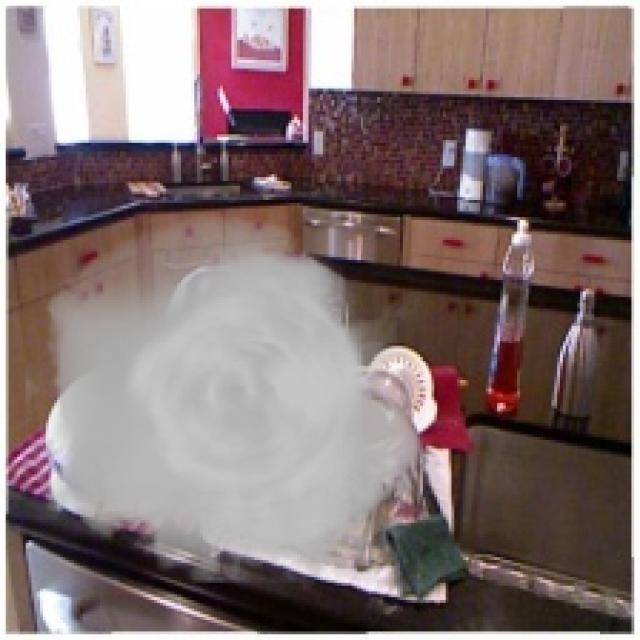smoke: (26, 214, 434, 583)
